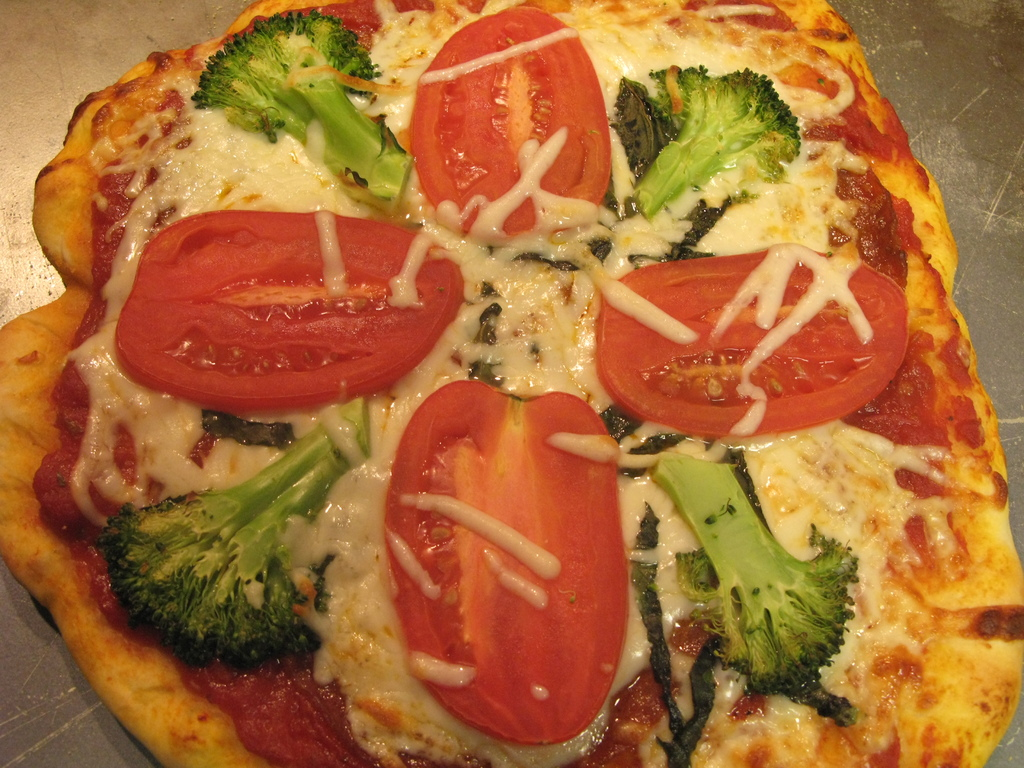Pizza: (1, 0, 1023, 765)
